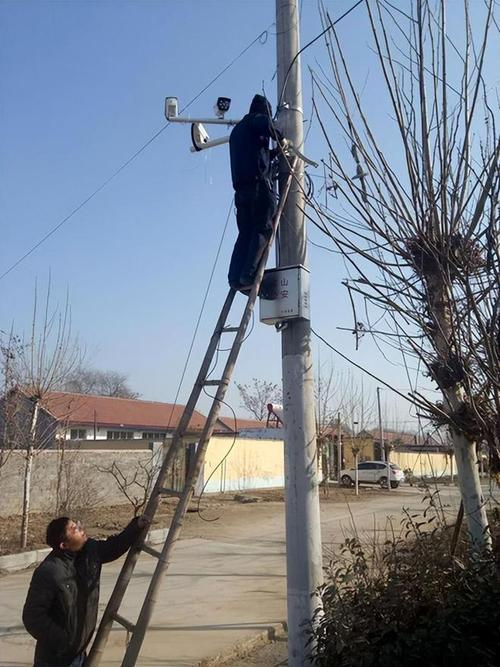安全帽、安全绳，工作服均未佩戴的工作人员: (226, 93, 289, 301)
安全帽、工作服均未穿戴的工作人员: (20, 511, 154, 667)
